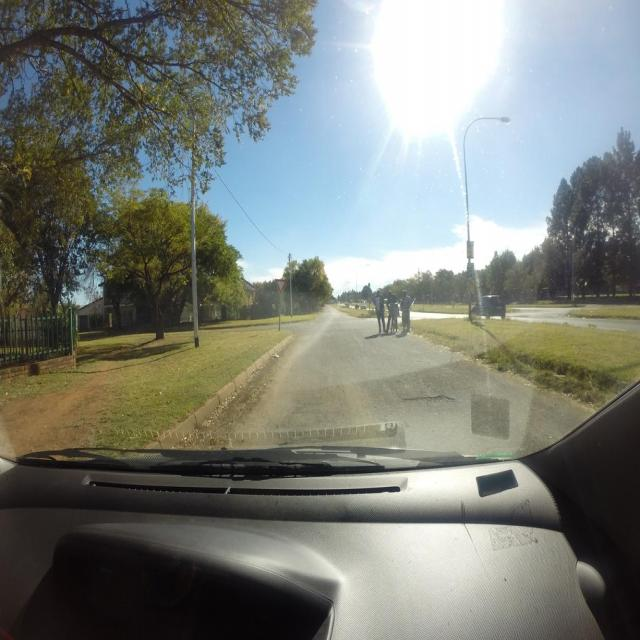Pothole: (404, 394, 454, 403)
